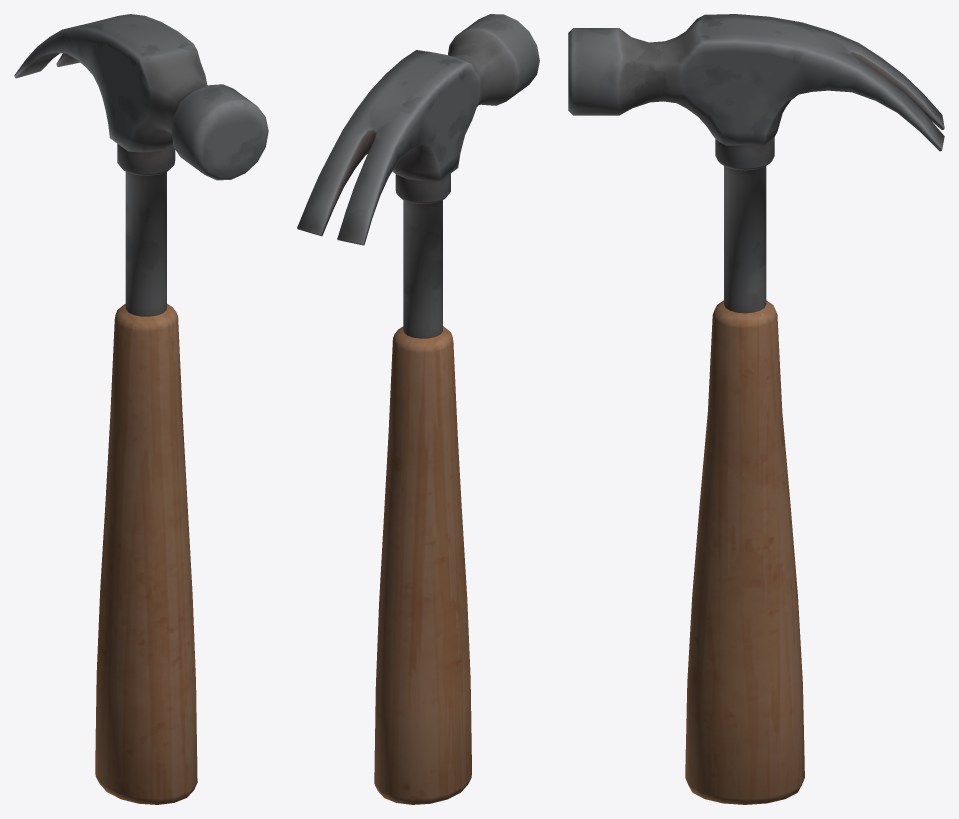
Rendered from hammer.fbx.
3 renders of one model, left to right at view 1: azimuth 30°, elevation 25°; view 2: azimuth 150°, elevation 25°; view 3: azimuth 270°, elevation 25°, orthographic. The views are drawn at different scales.
Parts seen in each view (by area): view 1: hammer.002; view 2: hammer.002; view 3: hammer.002.
Part boxes in pixels (<box>): hammer.002: <box>14,14,268,804</box>; hammer.002: <box>297,14,539,804</box>; hammer.002: <box>568,14,944,804</box>.
Size of the model in its own units: 2.98 by 24.97 by 11.18.
